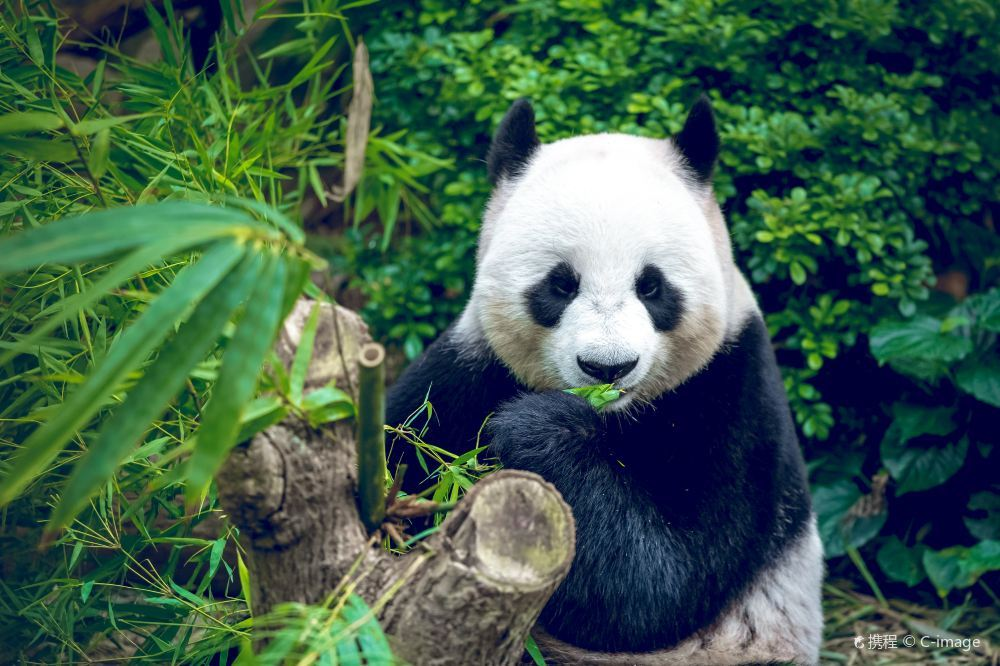panda: (400, 112, 846, 662)
